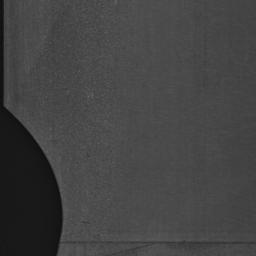Crescent gap: (5, 108, 63, 256)
